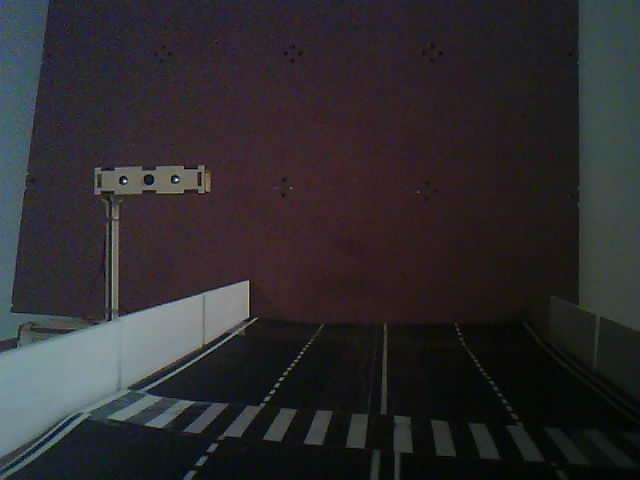crosswalk: (62, 364, 640, 480)
no: (74, 157, 238, 323)
